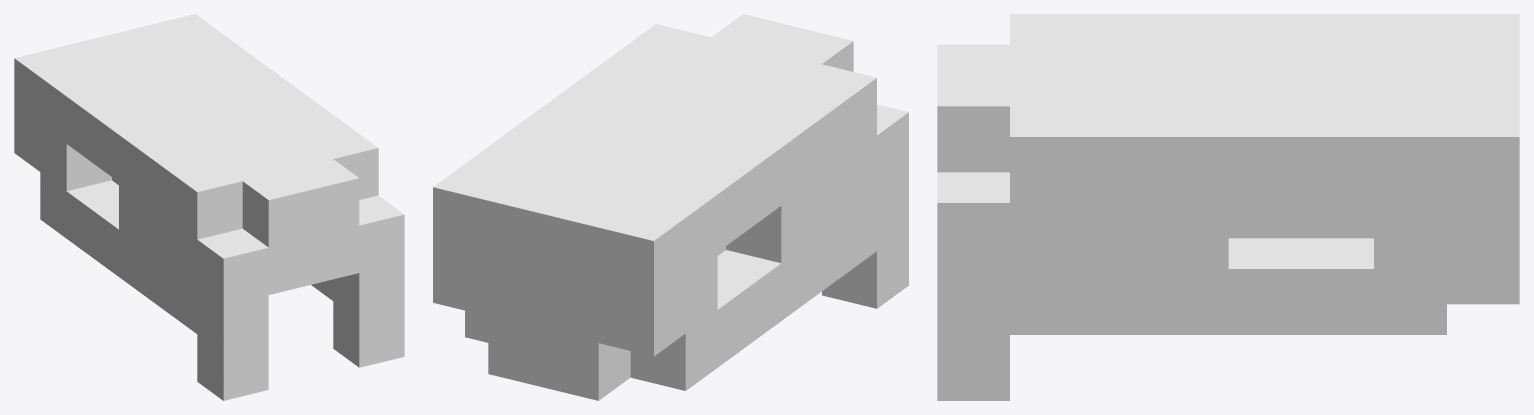
The model's file is skull_snake.fbx.
3 renders of one model, left to right at view 1: azimuth 30°, elevation 25°; view 2: azimuth 150°, elevation 25°; view 3: azimuth 270°, elevation 25°, orthographic. The views are drawn at different scales.
Visible parts, largest first — view 1: skull_snake; view 2: skull_snake; view 3: skull_snake.
Part boxes in pixels (box(x1,y1,x2,y2)): skull_snake: box(14, 14, 404, 400); skull_snake: box(433, 14, 908, 400); skull_snake: box(937, 14, 1519, 400).
Size of the model in its own units: 40 by 40 by 80.
1 material, 1 textured.
